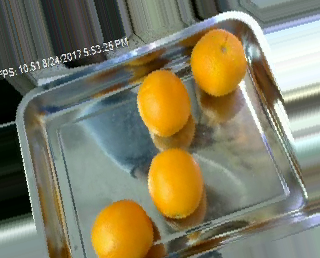Orange: (189, 27, 248, 97), (148, 146, 203, 217), (136, 68, 192, 137), (90, 199, 153, 258)
